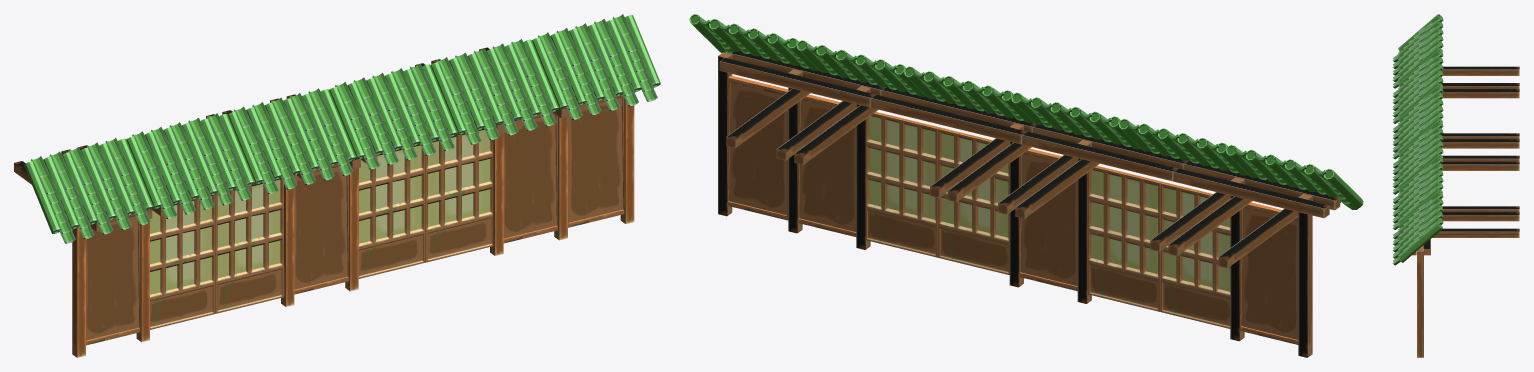
File: wood_wall2fbx.fbx
The picture shows the model from 3 angles, left to right: view 1: azimuth 30°, elevation 25°; view 2: azimuth 150°, elevation 25°; view 3: azimuth 270°, elevation 25°; orthographic projection. The views are drawn at different scales.
Parts seen in each view (by area): view 1: pCylinder18.003, polySurface14.008, polySurface14.010, polySurface14.009, polySurface14.007, Cube.051, Cube.033, Cube.026, Cube.036, Cube.031, Cube.052, Cube.037 (+4 smaller); view 2: pCylinder18.003, polySurface14.008, polySurface14.010, Cube.042, polySurface14.009, polySurface14.007, Cube.051, Cube.026, Cube.033, Cube.036, Cube.040, Cube.031 (+16 smaller); view 3: pCylinder18.003, Cube.050, Cube.045, Cube.047, Cube.049, Cube.039, Cube.044, Cube.052, Cube.046, Cube.043, Cube.041, Cube.048.
Part boxes in pixels (x1,y1,x2,y2): pCylinder18.003: (24,14,660,243); polySurface14.008: (215,179,284,313); polySurface14.010: (425,128,493,262); polySurface14.009: (358,144,425,278); polySurface14.007: (150,194,215,329); Cube.051: (568,94,624,227); Cube.033: (294,164,348,294); Cube.026: (86,213,140,345); Cube.036: (503,112,557,243); Cube.031: (72,227,85,357); Cube.052: (620,98,634,223); Cube.037: (490,133,503,255); pCylinder18.003: (689,14,1363,209); polySurface14.008: (1087,165,1161,311); polySurface14.010: (866,111,939,257); Cube.042: (719,57,1329,218); polySurface14.009: (938,127,1009,274); polySurface14.007: (1160,182,1230,328); Cube.051: (728,75,788,220); Cube.026: (1240,202,1298,344); Cube.033: (1019,148,1077,290); Cube.036: (798,94,856,236); Cube.040: (730,51,1340,210); Cube.031: (1298,193,1312,357); pCylinder18.003: (1392,14,1443,265); Cube.050: (1432,228,1519,237); Cube.045: (1441,139,1519,148); Cube.047: (1441,161,1519,170); Cube.049: (1441,212,1519,221); Cube.039: (1441,66,1519,75); Cube.044: (1441,89,1519,98); Cube.052: (1417,248,1423,357); Cube.046: (1442,155,1519,161); Cube.043: (1441,83,1519,88); Cube.041: (1441,133,1519,138); Cube.048: (1441,206,1519,211).
Bounding box in the file's own units: 1126 × 344 × 285.
